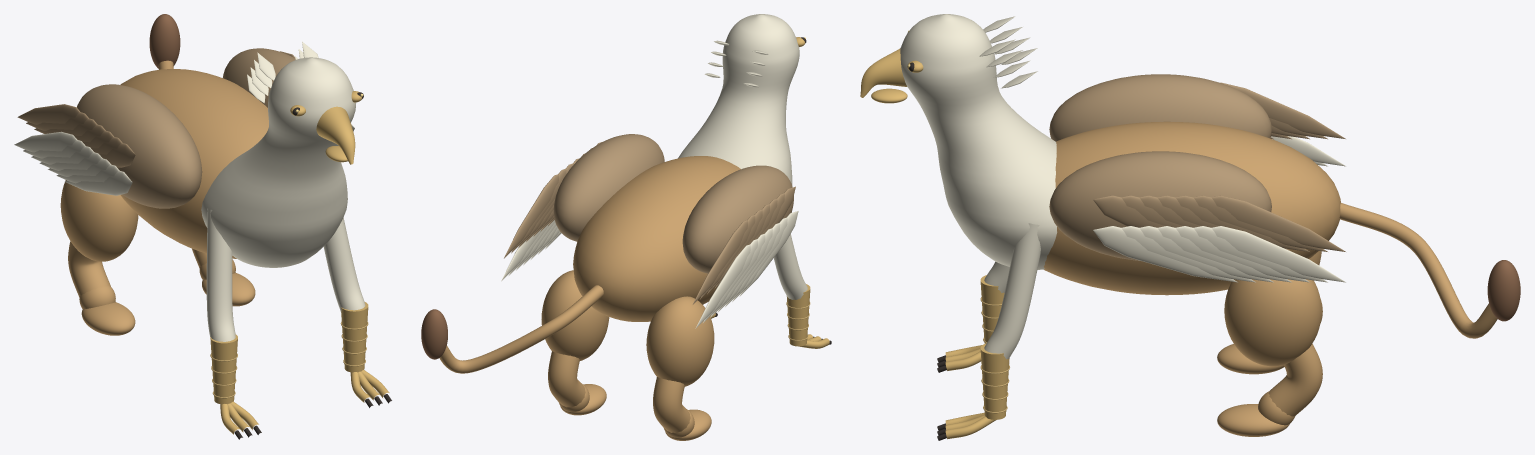
File: griffin-airmail-roost-and-posthouse-folded-wing-griffi-5fc428be__30503.glb
3 renders of one model, left to right at view 1: azimuth 30°, elevation 25°; view 2: azimuth 150°, elevation 25°; view 3: azimuth 270°, elevation 25°, orthographic. The views are drawn at different scales.
Parts seen in each view (by area): view 1: folded-wing-griffin; view 2: folded-wing-griffin; view 3: folded-wing-griffin.
Part boxes in pixels (x1,y1,x2,y2): folded-wing-griffin: (14, 14, 391, 439); folded-wing-griffin: (421, 14, 831, 440); folded-wing-griffin: (860, 14, 1520, 440).
Size of the model in its own units: 1.41 by 2.02 by 3.12.
